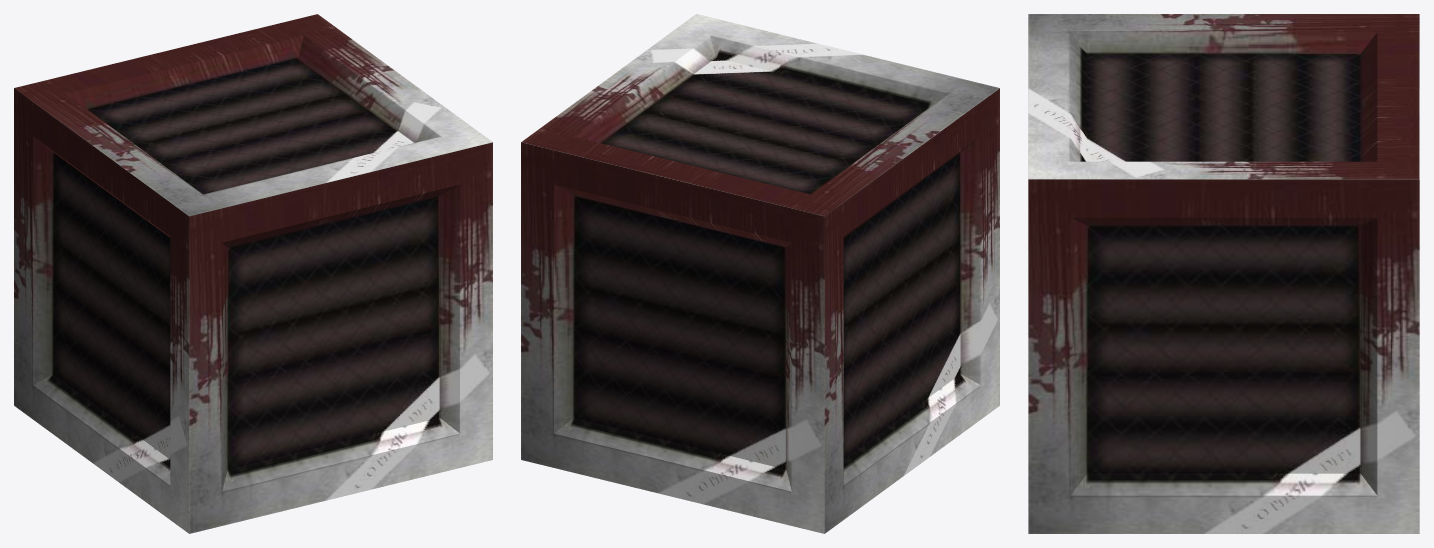
File: newcrate.dae
The picture shows the model from 3 angles, left to right: view 1: azimuth 30°, elevation 25°; view 2: azimuth 150°, elevation 25°; view 3: azimuth 270°, elevation 25°; orthographic projection. The views are drawn at different scales.
Parts seen in each view (by area): view 1: Box01; view 2: Box01; view 3: Box01.
Boxes of the visible parts, left/top/right/bottom form: Box01: left=14, top=14, right=492, bottom=533; Box01: left=521, top=14, right=999, bottom=533; Box01: left=1028, top=14, right=1419, bottom=533.
Bounding box in the file's own units: 78.74 × 78.74 × 78.74.
